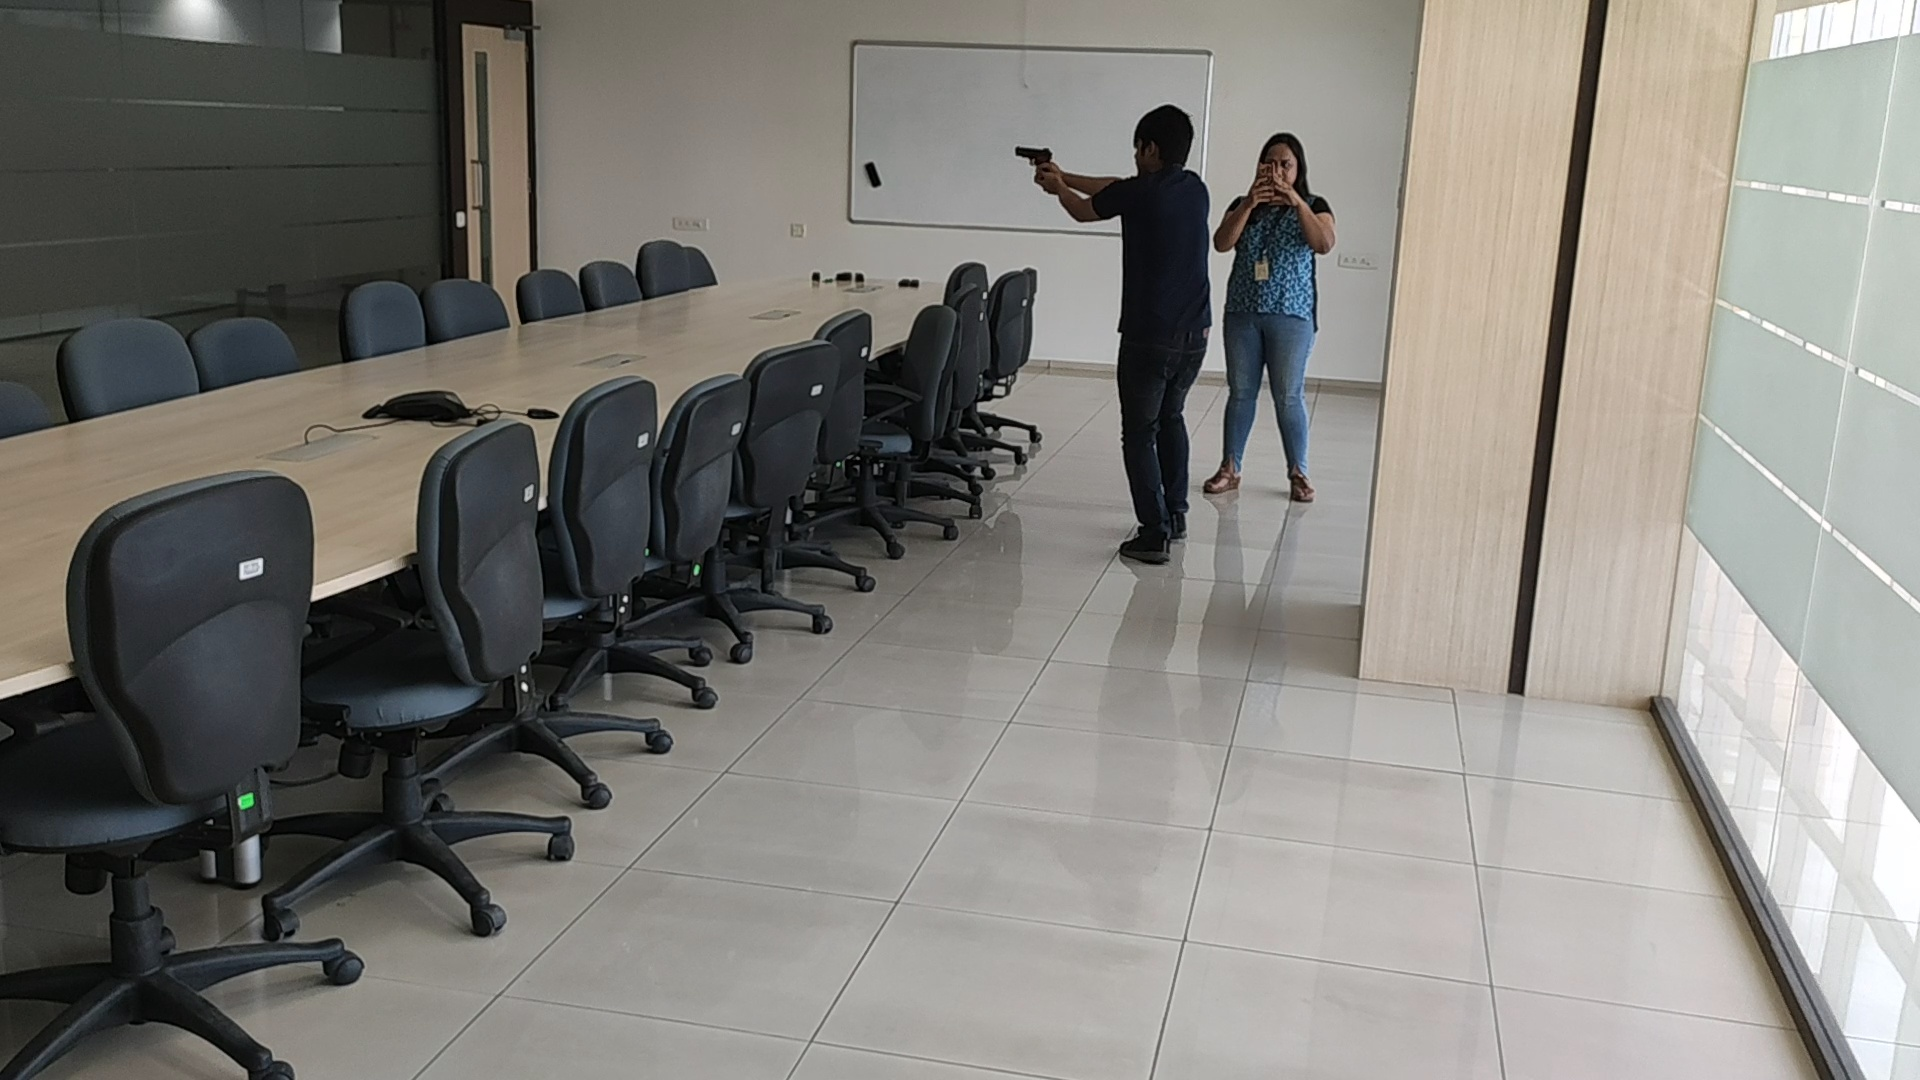gun: (1011, 144, 1054, 167)
